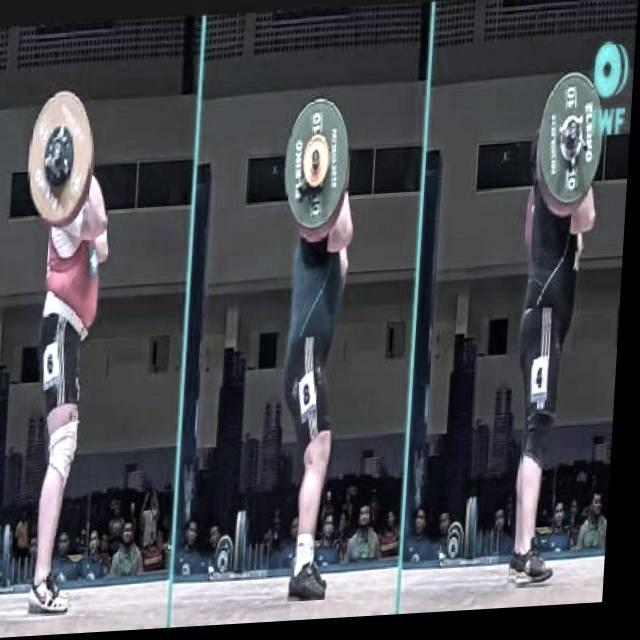barbell: (277, 93, 359, 241), (530, 78, 614, 215), (24, 85, 96, 232)
